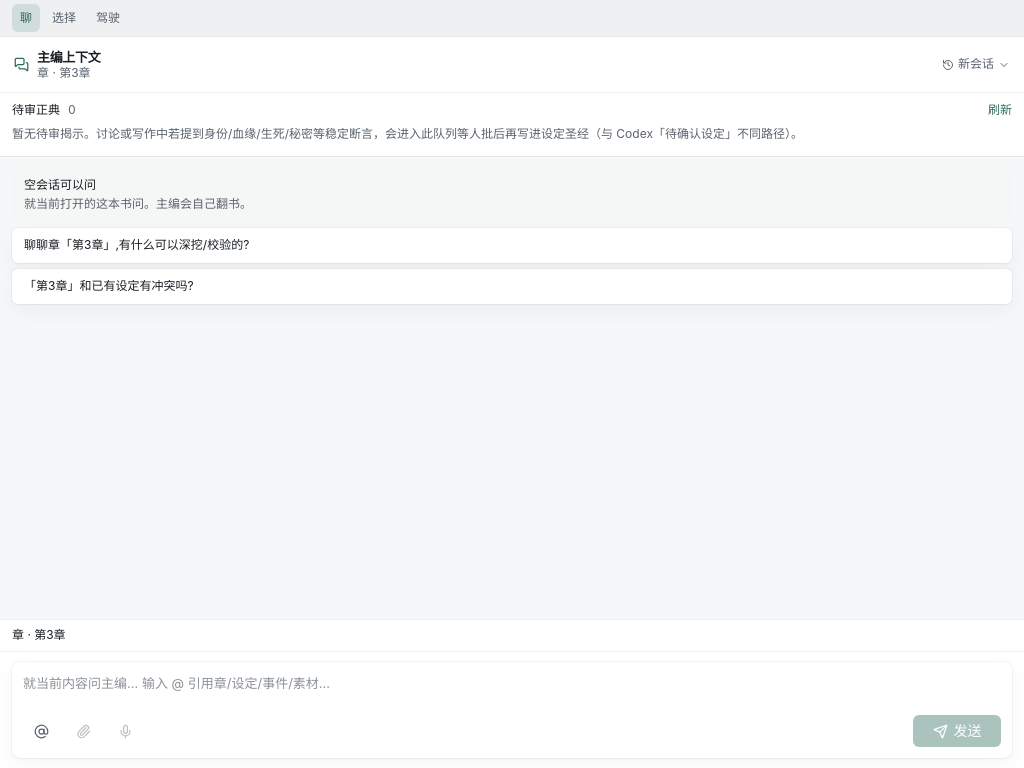
Test: ChiefDock 线程连续性(Task 6) › 历史空回填先完成后才收到 Run 审批时，保留本轮 Run 卡且不崩溃
The image size is (1024, 768).
In the text box with placeholder "就当前内容问主编… 输入 @ 引用章/设定/事件/素材…": point(512, 689) [23,671,1001,707], type "请只调用 s3_add_chapter 新建第1章，需审批"
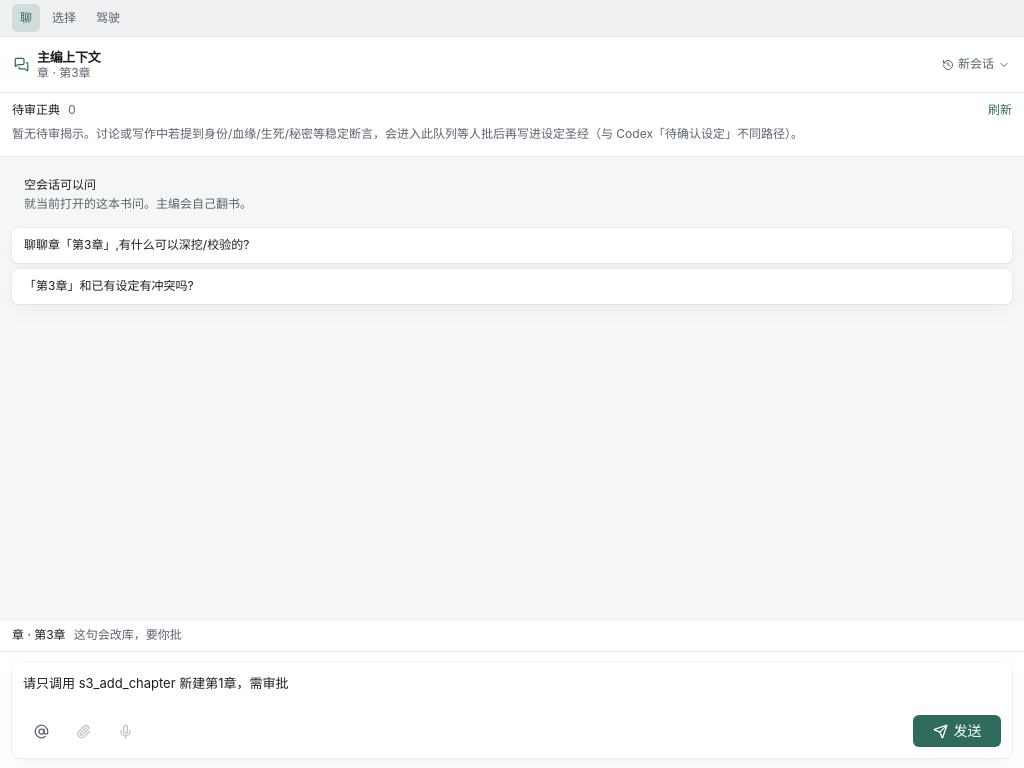
Click the button "发送": point(957, 731) [913,715,1001,747]
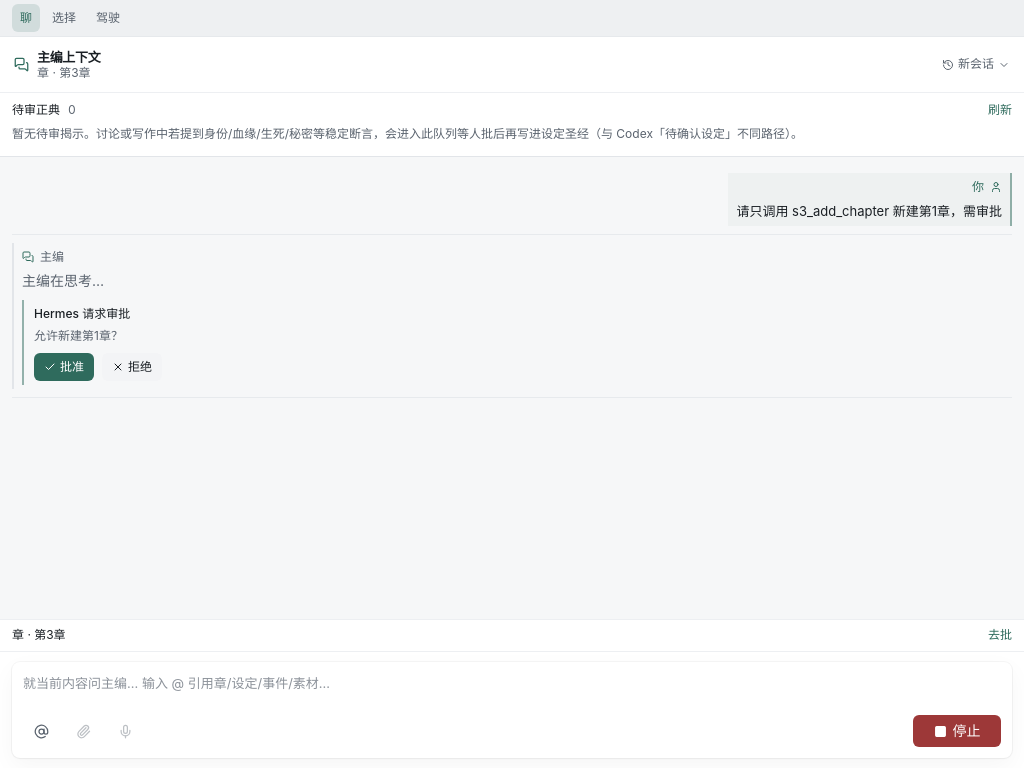
expect the text "允许新建第1章？" is shown once: met, box [34,328,123,343]
expect the text "允许新建第1章？" is shown: met, box [34,328,123,343]
